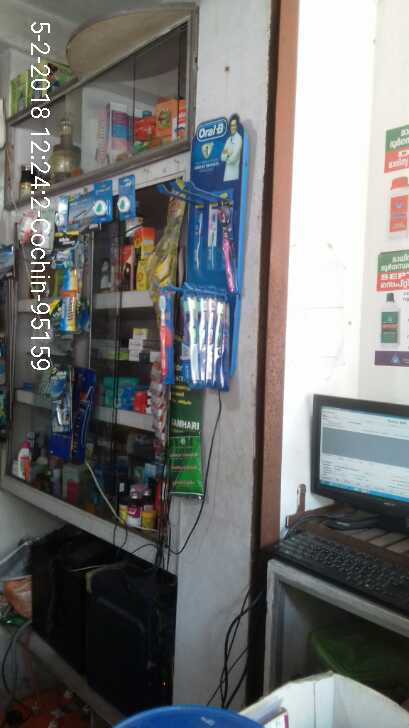oralb: (215, 190, 243, 293)
